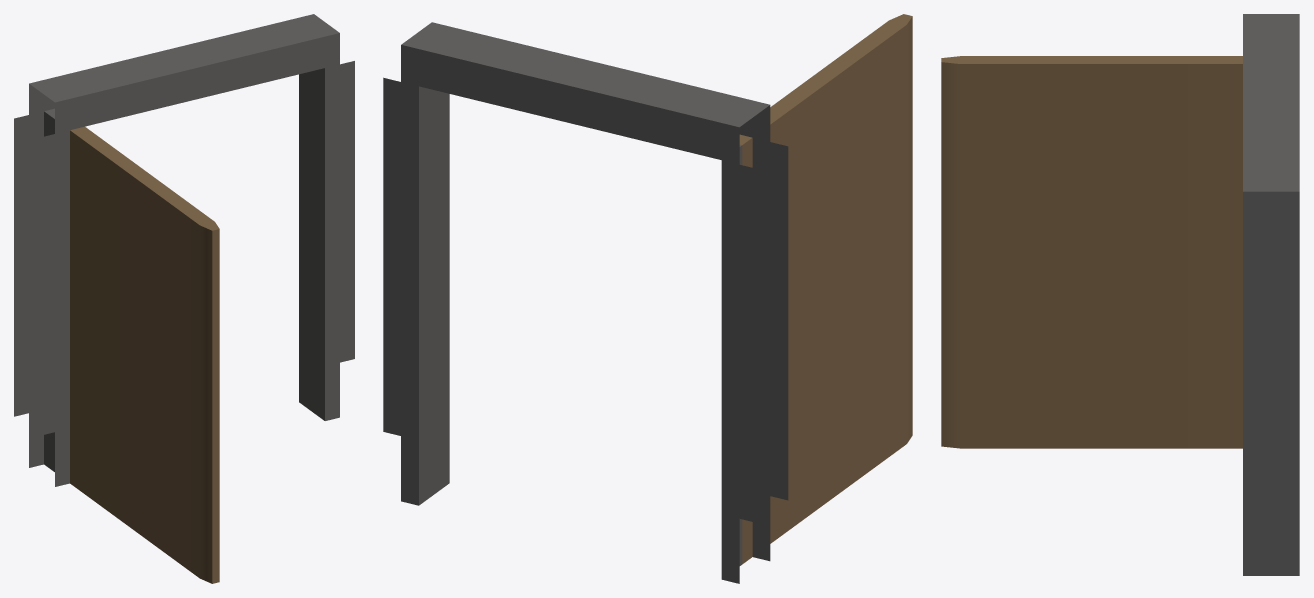
File: door01.fbx
The picture shows the model from 3 angles, left to right: view 1: azimuth 30°, elevation 25°; view 2: azimuth 150°, elevation 25°; view 3: azimuth 270°, elevation 25°; orthographic projection. The views are drawn at different scales.
Parts seen in each view (by area): view 1: door, doorway; view 2: doorway, door; view 3: door, doorway.
Boxes of the visible parts, box(x1,y1,x2,y2) form: door: box(70, 126, 219, 583); doorway: box(14, 14, 354, 486); doorway: box(383, 22, 788, 583); door: box(739, 14, 912, 564); door: box(941, 56, 1242, 448); doorway: box(1243, 14, 1299, 575).
Size of the model in its own units: 0.84 by 0.98 by 0.76.
